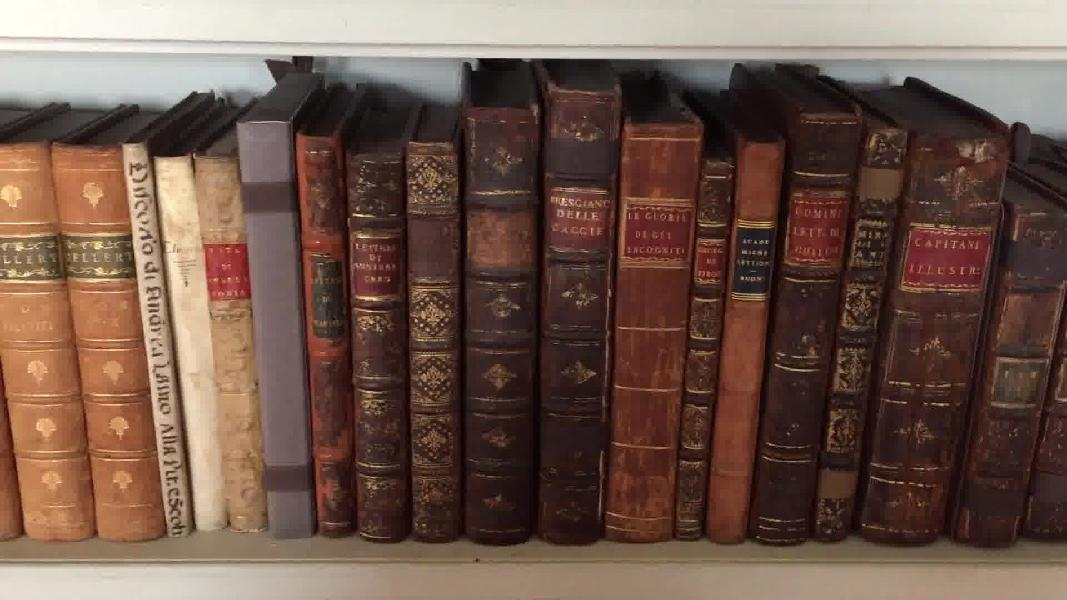Aa6-24: (123, 134, 205, 539)
Aa6-25: (154, 144, 225, 536)
Aa6-26: (193, 150, 266, 532)
Aa6-27: (240, 116, 315, 539)
Aa6-28: (297, 121, 354, 544)
Aa6-29: (346, 147, 420, 547)
Aa6-30: (398, 127, 466, 540)
Aa6-31: (459, 100, 540, 546)
Aa6-32: (540, 79, 608, 532)
Aa6-33: (611, 104, 689, 542)
Aa6-34: (678, 135, 731, 558)
Aa6-35: (712, 117, 774, 547)
Aa6-36: (759, 109, 840, 555)
Aa6-37: (817, 71, 893, 550)
Aa6-38: (861, 75, 1012, 555)
Aa6-39_40: (961, 159, 1067, 554)
